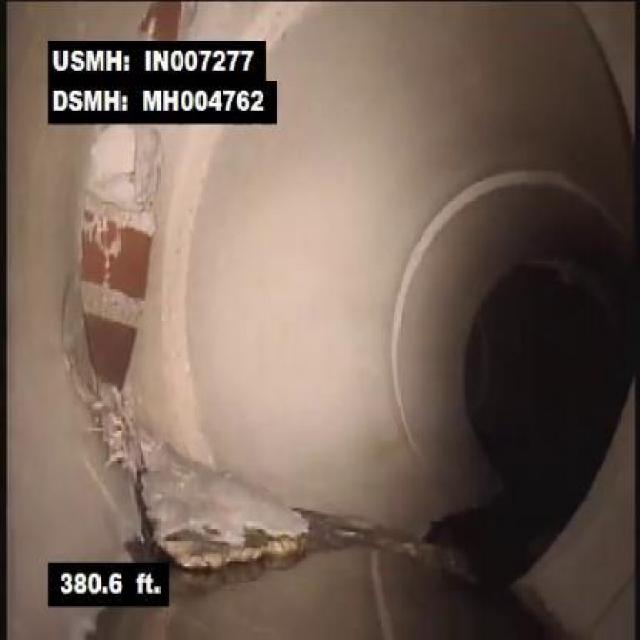Crack: (172, 498, 357, 582)
Joint offset: (386, 204, 449, 334), (432, 163, 588, 202)
